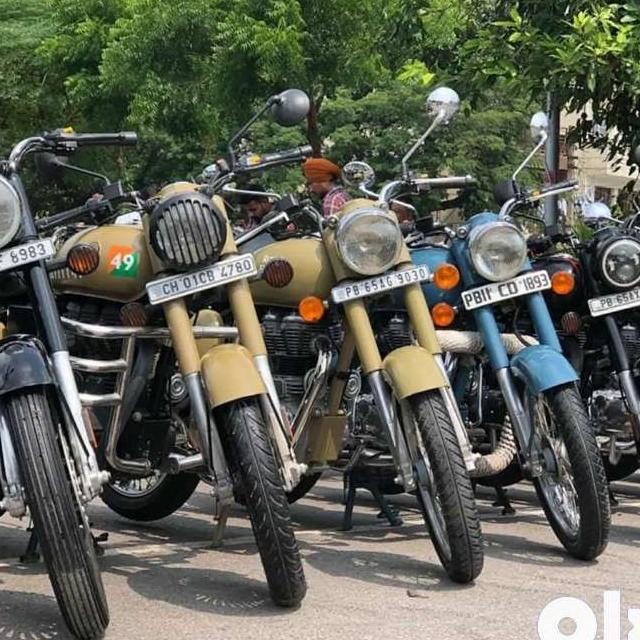Indian_Number_Plate: (147, 255, 256, 303), (333, 265, 428, 303), (463, 271, 551, 309), (0, 239, 56, 269), (591, 288, 640, 313)
